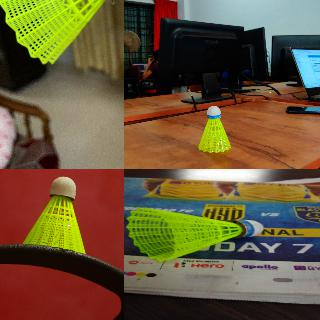shuttlecock: (0, 0, 123, 65), (126, 207, 262, 260), (23, 177, 85, 253), (197, 106, 231, 152)
